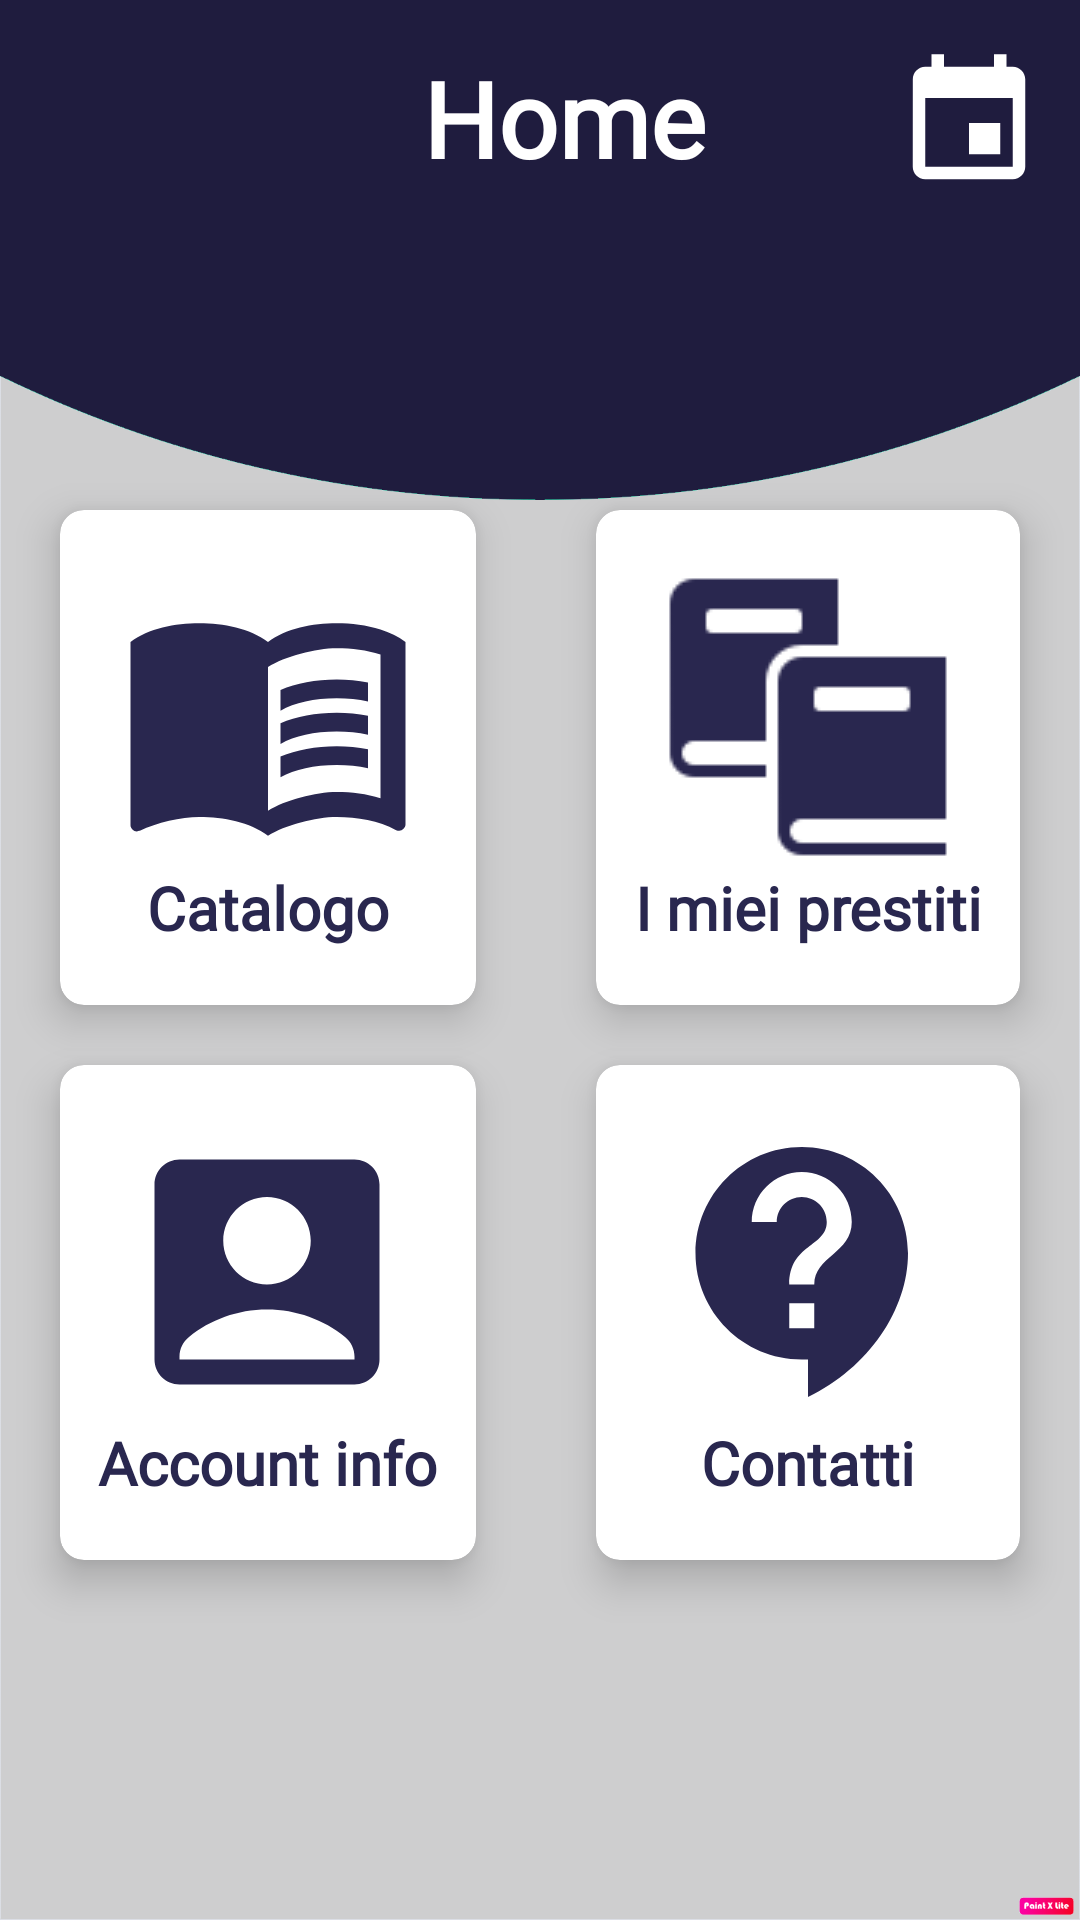

Named icons in this screenshot (1080w x 1920h) and their centers, (x,y):
book: (268,729)
books: (808,717)
contact support: (801,1272)
event: (969,117)
